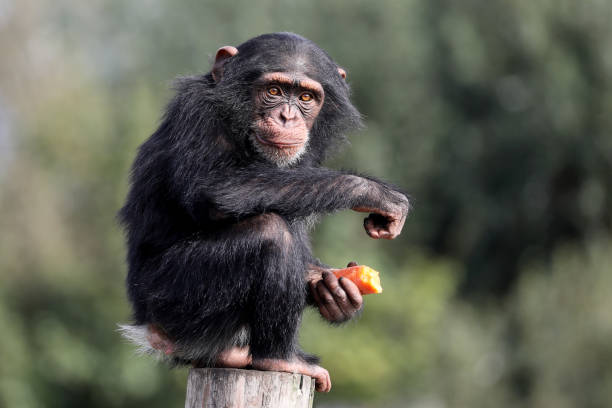chimpanzee: (188, 14, 380, 197)
